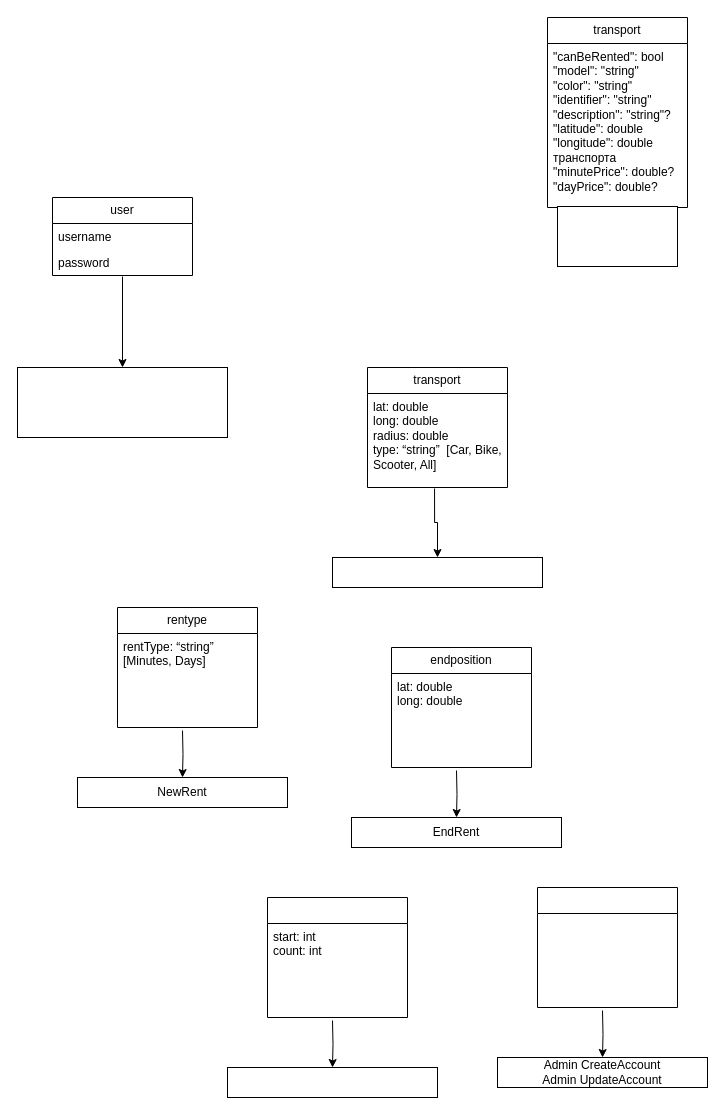
The diagram is 725 pixels wide and 1115 high, and some of its shapes have lost their labels. The centre of each missing label's shape, as x and y in pixels:
"username": "string", "password": "string", "isAdmin": bool, "balance": double }: pixel 607 947
Admin GetManyAccounts: pixel 332 1082
GetAwaibleTransport: pixel 437 572
post and put: pixel 617 236
SignIn SignUp(unique username) UpdateUser(un username): pixel 122 402
